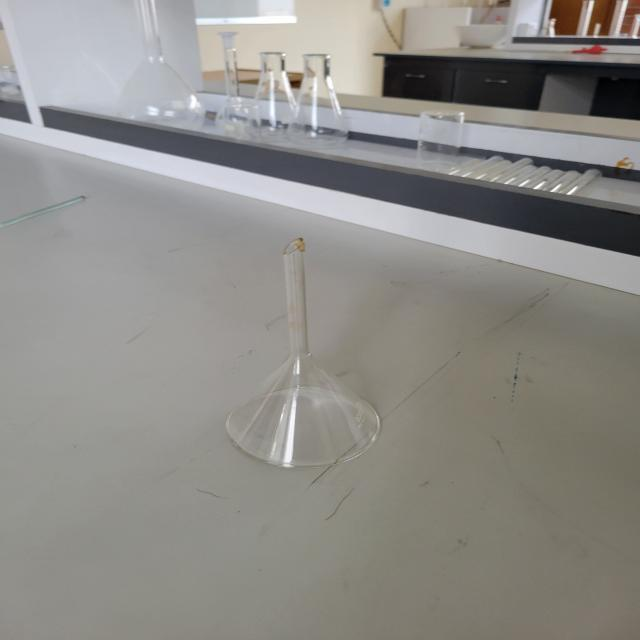Funnel: (166, 210, 444, 500)
